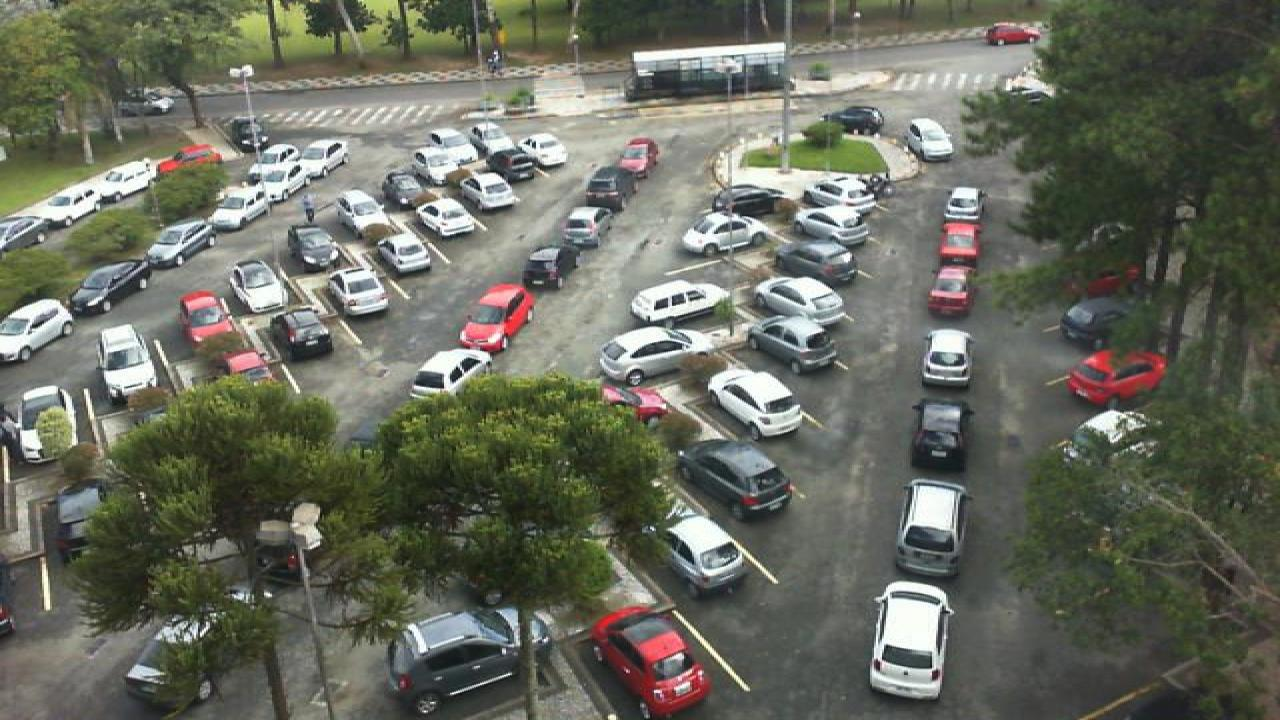Car: (382, 606, 526, 712), (120, 616, 258, 720), (588, 605, 712, 719), (864, 580, 958, 704), (676, 439, 794, 523), (656, 514, 746, 599), (894, 478, 970, 577), (706, 367, 804, 441), (596, 325, 710, 386), (1064, 349, 1166, 413), (458, 282, 538, 354), (746, 315, 840, 376), (626, 279, 732, 329), (10, 384, 76, 464), (0, 297, 76, 362), (752, 276, 846, 328), (98, 323, 164, 397), (910, 398, 974, 474), (406, 348, 494, 402), (68, 261, 150, 316), (1054, 295, 1130, 353), (676, 212, 768, 258), (918, 326, 978, 390), (142, 221, 218, 271), (602, 380, 674, 430), (270, 307, 332, 365), (178, 289, 238, 348), (776, 240, 856, 284), (790, 207, 868, 252), (228, 260, 290, 313), (796, 176, 878, 216), (30, 182, 106, 225), (330, 267, 394, 317), (710, 182, 788, 221), (414, 145, 482, 188), (206, 190, 272, 233), (94, 159, 164, 199), (522, 248, 582, 294), (0, 214, 60, 258), (376, 229, 432, 276), (416, 197, 478, 237), (288, 224, 340, 271), (244, 163, 302, 205), (336, 189, 392, 232), (934, 220, 982, 270), (924, 266, 972, 316), (902, 117, 954, 163), (458, 172, 516, 213), (218, 351, 280, 386), (290, 138, 350, 174), (562, 207, 612, 250), (818, 105, 884, 137), (512, 130, 570, 166), (252, 140, 306, 176), (590, 164, 636, 205), (380, 170, 428, 208), (464, 117, 516, 152), (482, 146, 534, 181), (120, 88, 180, 118), (154, 144, 220, 168), (942, 185, 984, 222), (616, 138, 658, 174), (412, 124, 462, 147)
